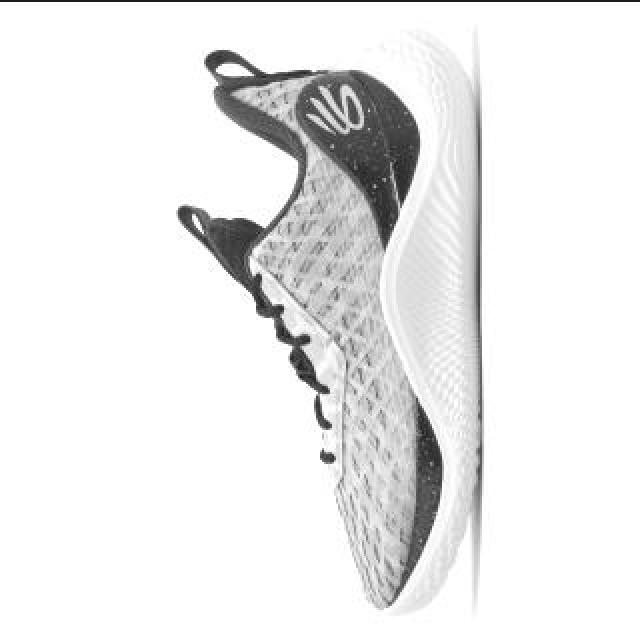shoes: (182, 23, 484, 619)
